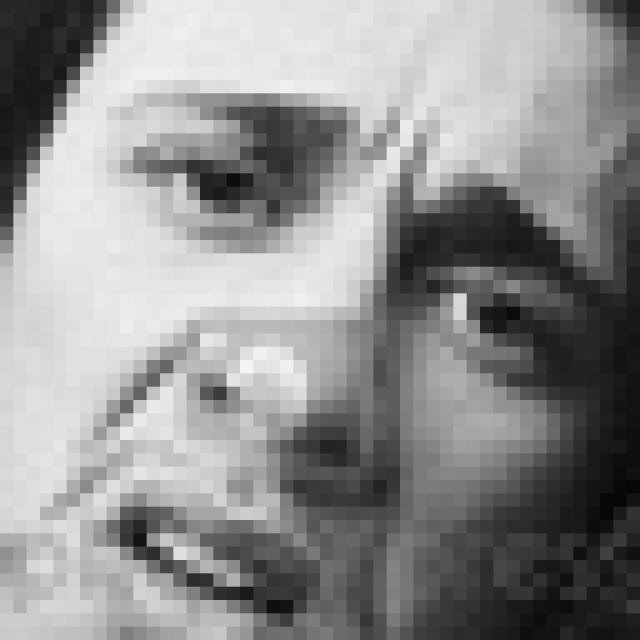disgust: (65, 85, 590, 640)
